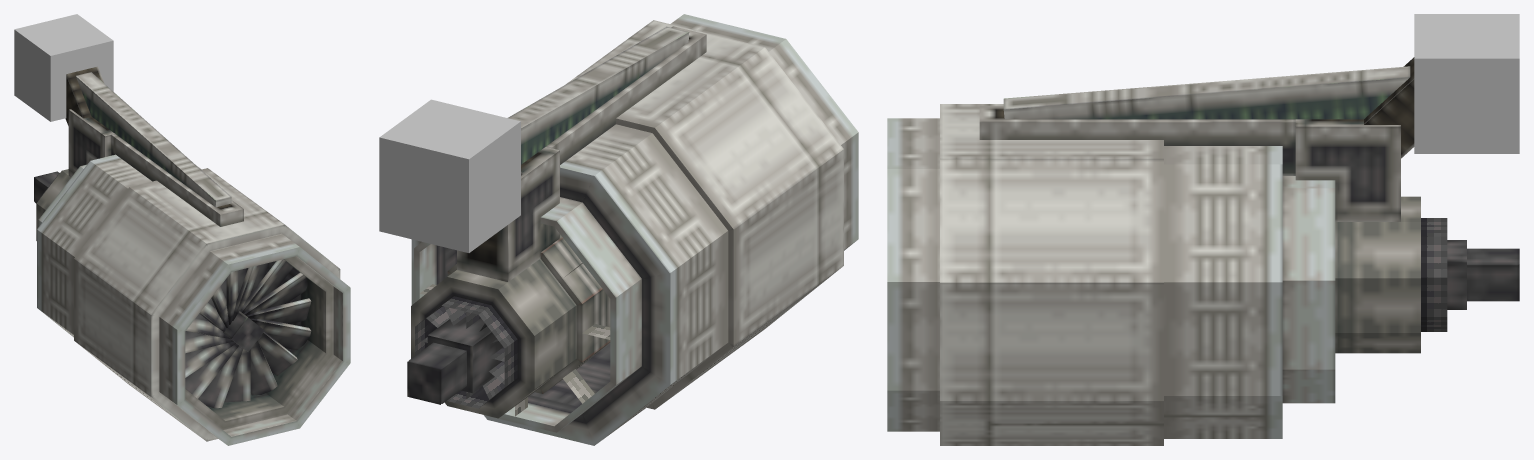
File: block.obj
3 views of the same model, side by side, from view 1: azimuth 30°, elevation 25°; view 2: azimuth 150°, elevation 25°; view 3: azimuth 270°, elevation 25° (orthographic). The views are drawn at different scales.
Visible parts, largest first — view 1: intakecowling, casing, mount, sproing, mesh, 11, jet_casing, 15, 1, 13, 10, 0 (+12 smaller); view 2: casing, jet_casing, mount, intakecowling, mesh, casing_interior, sproing, unculled, trusses_small, trusses; view 3: casing, intakecowling, mesh, sproing, jet_casing, mount, casing_interior, unculled.
Part boxes in pixels (box(x1,y1,x2,y2)): intakecowling: box(135, 213, 350, 445); casing: box(37, 154, 268, 427); mount: box(14, 14, 113, 121); sproing: box(65, 66, 231, 207); mesh: box(68, 109, 243, 226); 11: box(198, 346, 243, 408); jet_casing: box(34, 169, 70, 240); 15: box(250, 318, 311, 350); 1: box(243, 272, 307, 315); 13: box(250, 340, 277, 395); 10: box(185, 343, 238, 398); 0: box(247, 298, 311, 323); casing: box(411, 37, 821, 445); jet_casing: box(407, 234, 610, 418); mount: box(379, 99, 520, 252); intakecowling: box(631, 14, 858, 342); mesh: box(457, 26, 706, 281); casing_interior: box(419, 197, 641, 431); sproing: box(508, 26, 689, 175); unculled: box(415, 296, 517, 408); trusses_small: box(421, 306, 504, 399); trusses: box(420, 263, 610, 416); casing: box(986, 104, 1282, 445); intakecowling: box(887, 104, 985, 445); mesh: box(979, 105, 1400, 221); sproing: box(1003, 57, 1414, 158); jet_casing: box(1335, 196, 1519, 353); mount: box(1414, 14, 1519, 153); casing_interior: box(1282, 176, 1335, 403); unculled: box(1421, 218, 1447, 331).
Size of the model in its own units: 3 by 4 by 6.
